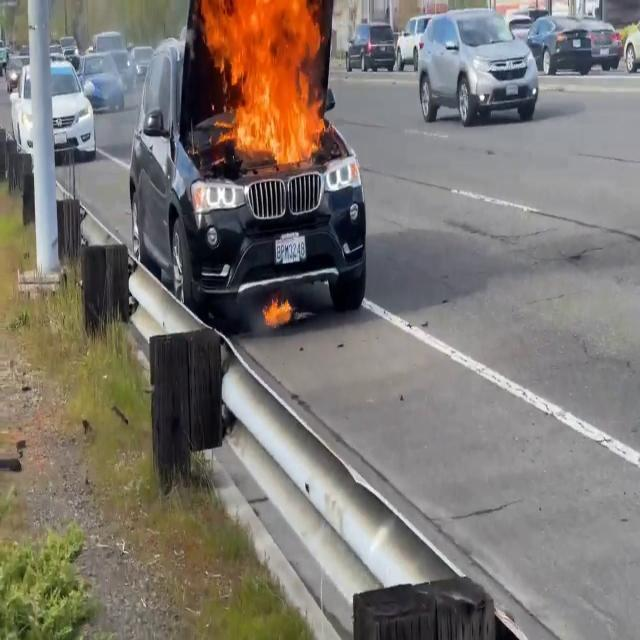Fire: (198, 0, 336, 169), (261, 294, 295, 334)
